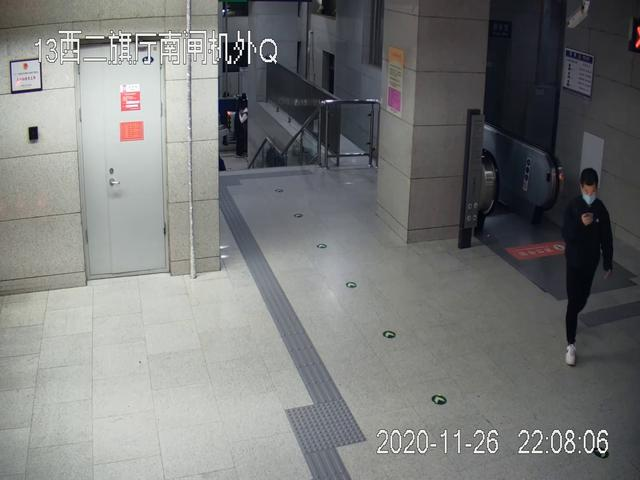person: (567, 168, 613, 366)
